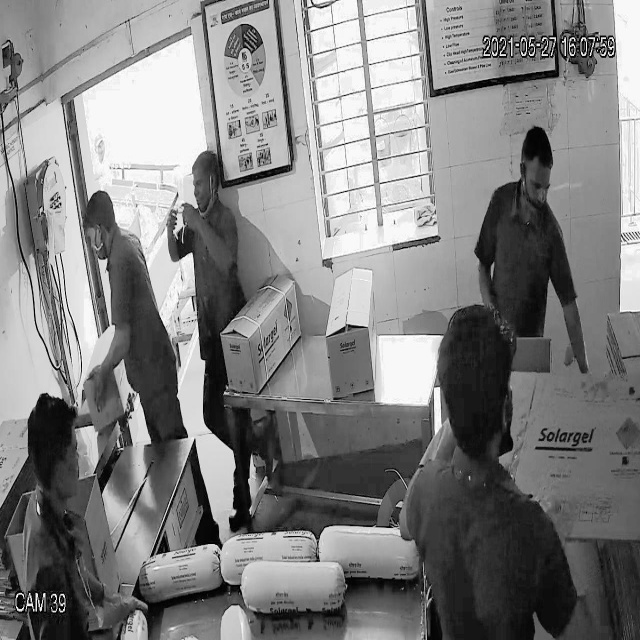Sin_gafas: (518, 169, 557, 206)
